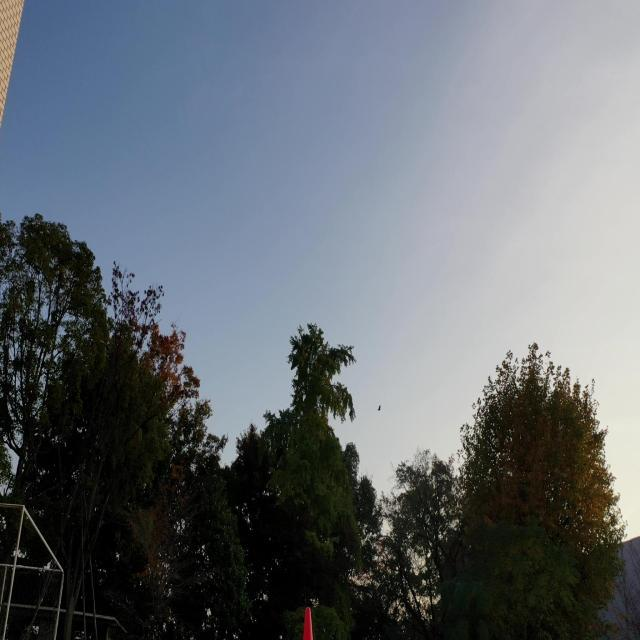Birds: (372, 398, 386, 416)
